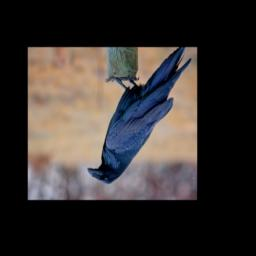Crow: (86, 47, 192, 186)
